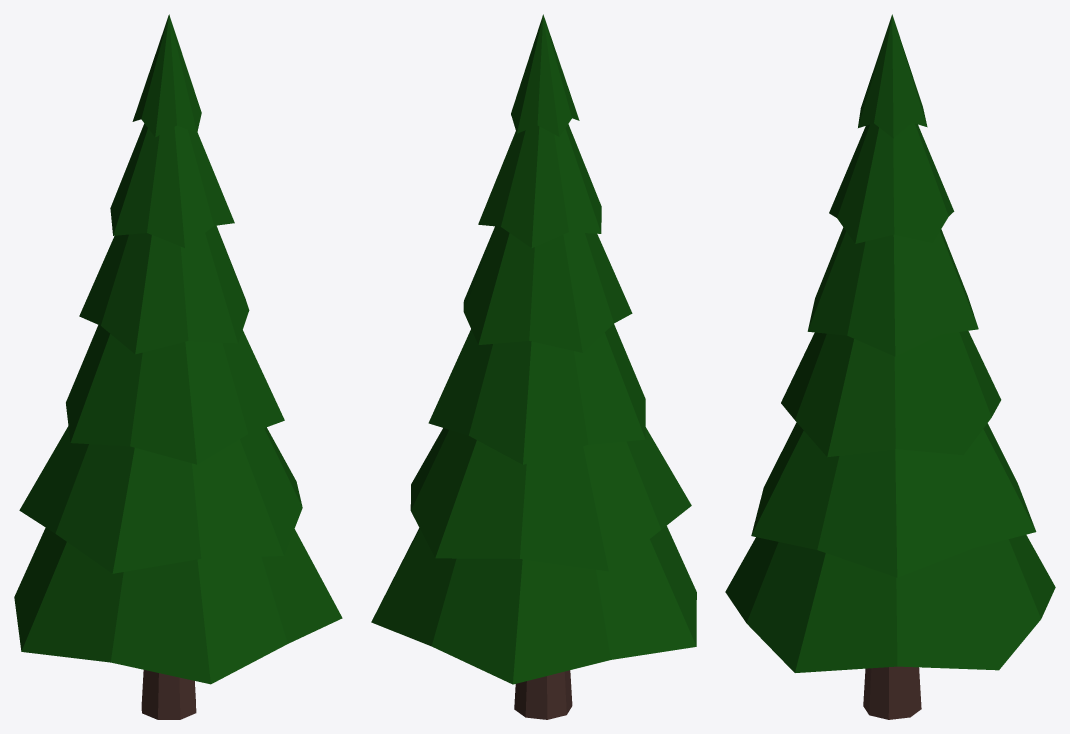
File: Tree A.fbx
The picture shows the model from 3 angles, left to right: view 1: azimuth 30°, elevation 25°; view 2: azimuth 150°, elevation 25°; view 3: azimuth 270°, elevation 25°; orthographic projection.
Parts seen in each view (by area): view 1: Tree A; view 2: Tree A; view 3: Tree A.
Boxes of the visible parts, x1,y1,x2,y2 form: Tree A: [14, 14, 342, 719]; Tree A: [371, 14, 696, 719]; Tree A: [725, 14, 1055, 719].
Bounding box in the file's own units: 414 × 416 × 964.
